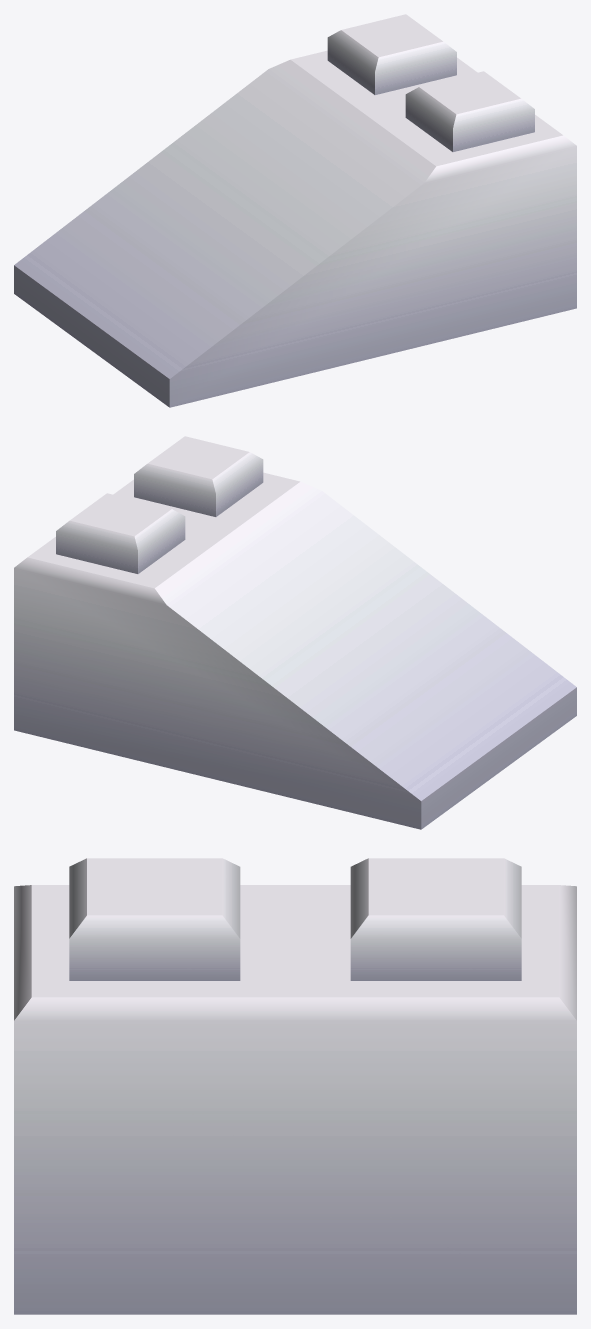
File: square-hq-brick-slope-3x2.glb
3 renders of one model, top to bottom at view 1: azimuth 30°, elevation 25°; view 2: azimuth 150°, elevation 25°; view 3: azimuth 270°, elevation 25°, orthographic. The views are drawn at different scales.
Parts seen in each view (by area): view 1: square-hq-brick-slope-3x2; view 2: square-hq-brick-slope-3x2; view 3: square-hq-brick-slope-3x2.
Boxes of the visible parts, bbox=[...] form: square-hq-brick-slope-3x2: bbox=[14, 14, 576, 407]; square-hq-brick-slope-3x2: bbox=[14, 436, 576, 829]; square-hq-brick-slope-3x2: bbox=[14, 858, 576, 1314].
Bounding box in the file's own units: 0.2385 × 0.114 × 0.158.
1 material, 1 textured.
